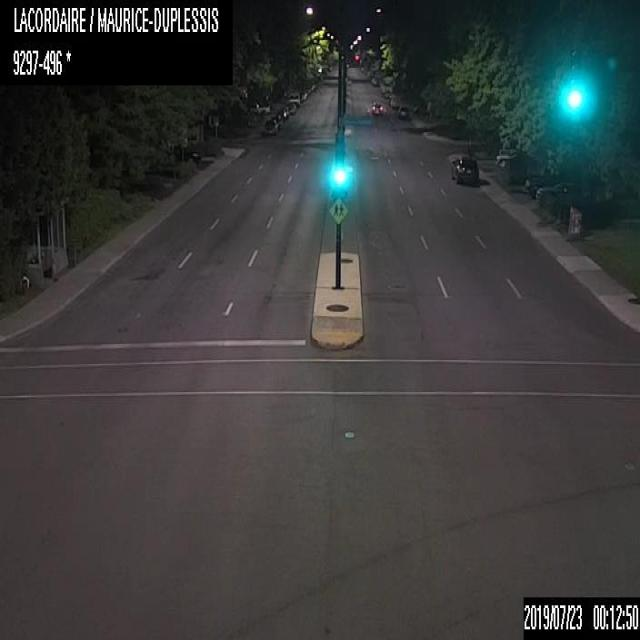vehicle: (535, 180, 589, 202), (449, 156, 478, 185), (525, 174, 560, 198), (496, 154, 538, 171), (494, 148, 525, 160), (248, 100, 270, 116), (262, 117, 278, 135), (271, 114, 285, 127), (287, 91, 299, 106), (370, 102, 383, 115), (397, 104, 408, 116), (278, 106, 289, 117), (389, 96, 399, 108), (286, 102, 296, 114), (299, 90, 306, 100), (370, 77, 378, 84), (305, 85, 311, 94)
